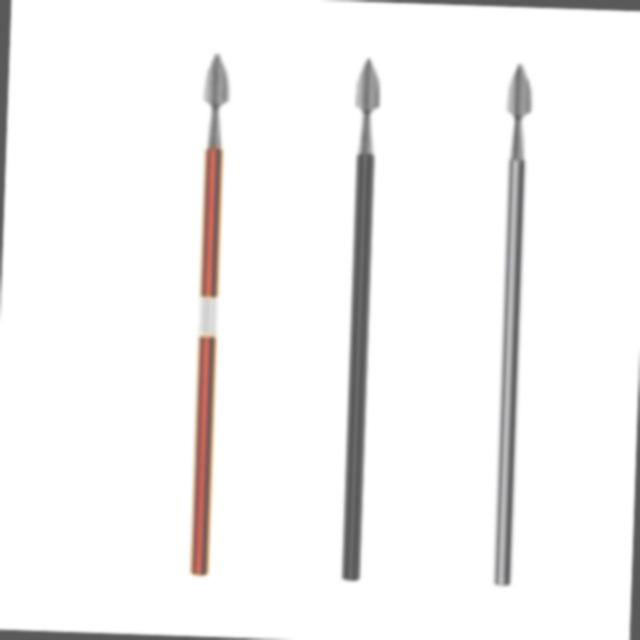spear: (312, 41, 421, 596), (148, 33, 246, 590), (463, 42, 549, 600)
